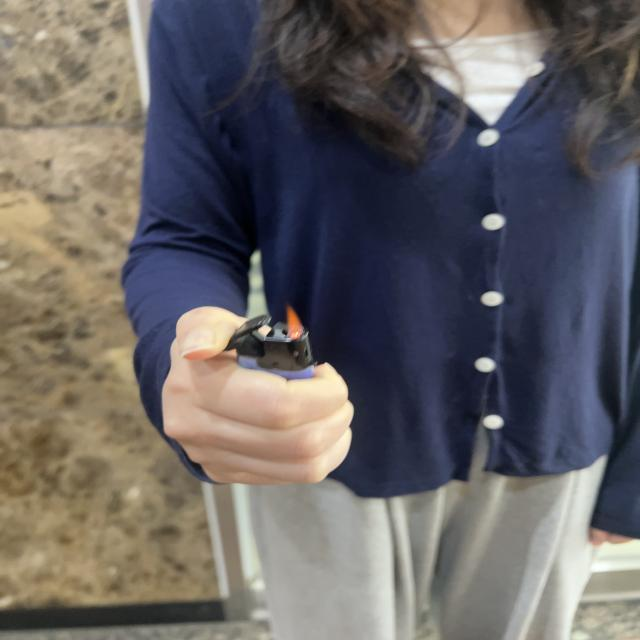fire: (281, 304, 306, 339)
